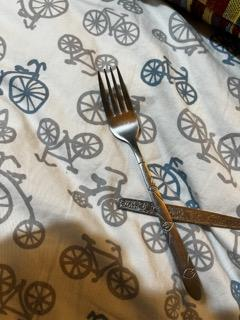fork: (96, 64, 205, 303)
